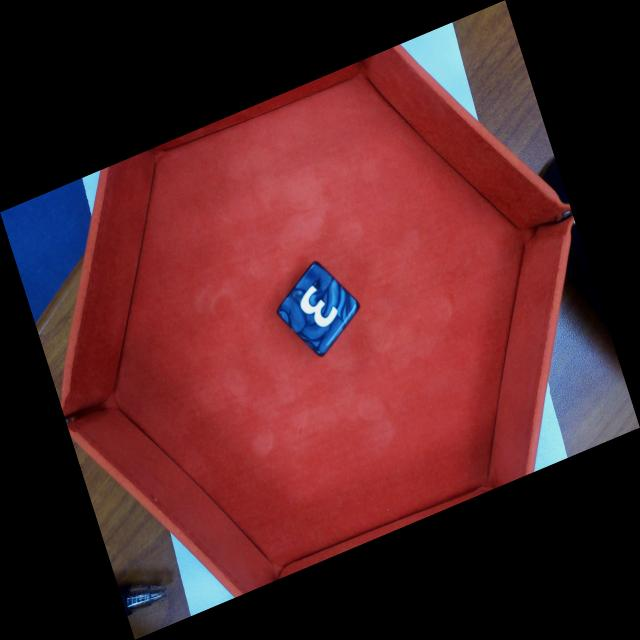dice: (280, 262, 359, 359)
